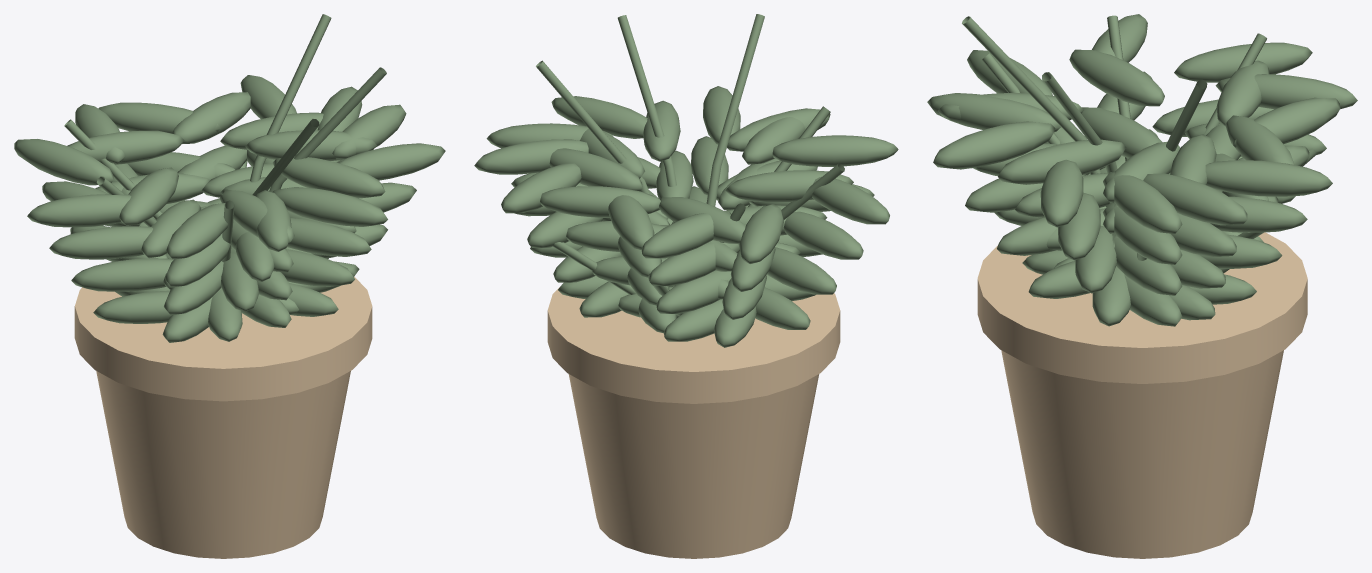
The model's file is classic-plant.glb.
The picture shows the model from 3 angles, left to right: view 1: azimuth 30°, elevation 25°; view 2: azimuth 150°, elevation 25°; view 3: azimuth 270°, elevation 25°; orthographic projection. The views are drawn at different scales.
Parts seen in each view (by area): view 1: Pot.002; view 2: Pot.002; view 3: Pot.002.
Boxes of the visible parts, left/top/right/bottom form: Pot.002: left=14, top=14, right=445, bottom=558; Pot.002: left=474, top=14, right=898, bottom=558; Pot.002: left=927, top=14, right=1357, bottom=558.
Size of the model in its own units: 0.8225 by 0.9058 by 0.7046.
